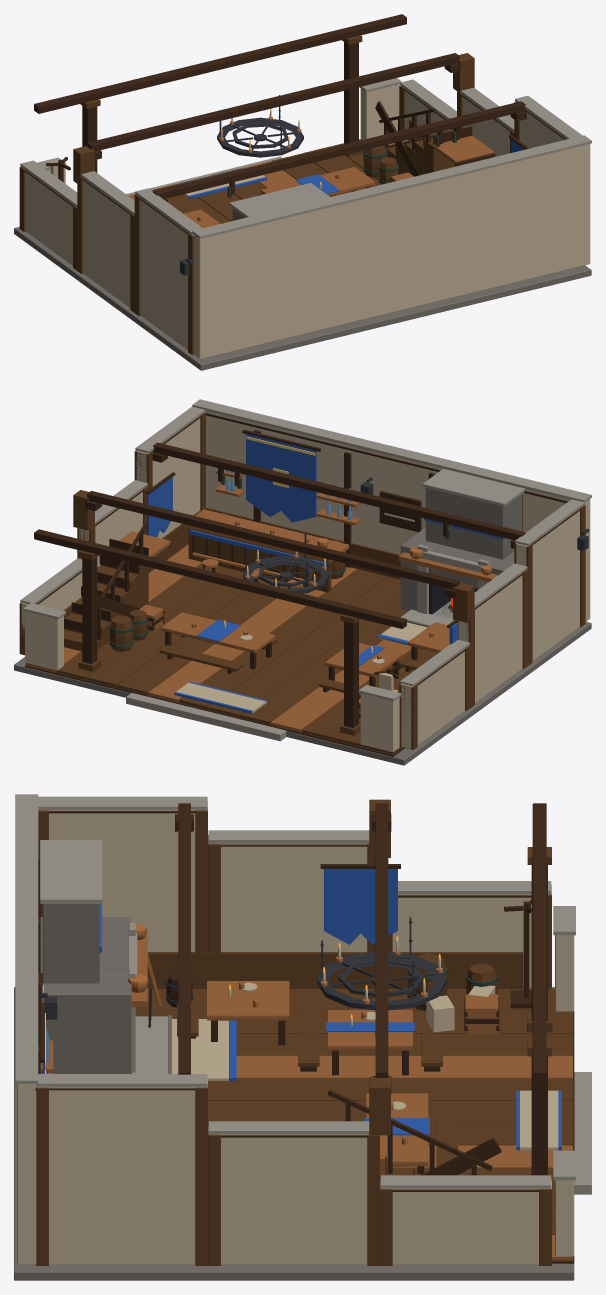
The model's file is 酒馆内部.glb.
3 renders of one model, top to bottom at view 1: azimuth 30°, elevation 25°; view 2: azimuth 150°, elevation 25°; view 3: azimuth 270°, elevation 25°, orthographic. The views are drawn at different scales.
Parts seen in each view (by area): view 1: TV-plaster, TV-wood_dark, TV-stone_light, TV-wood_mid, TV-stone_mid, TV-wood_warm, TV-iron, TV-team, TV-cloth_cream; view 2: TV-wood_mid, TV-plaster, TV-wood_dark, TV-stone_light, TV-wood_warm, TV-stone_mid, TV-team, TV-iron, TV-cloth_cream, TV-copper; view 3: TV-plaster, TV-wood_mid, TV-stone_light, TV-stone_mid, TV-wood_dark, TV-wood_warm, TV-team, TV-cloth_cream, TV-iron, TV-copper.
Part boxes in pixels (x1,y1,x2,y2): TV-plaster: (25, 84, 590, 359); TV-wood_dark: (24, 14, 566, 238); TV-stone_light: (20, 78, 591, 238); TV-wood_mid: (19, 35, 519, 354); TV-stone_mid: (14, 140, 591, 370); TV-wood_warm: (128, 135, 494, 227); TV-iron: (180, 95, 303, 275); TV-team: (175, 140, 524, 198); TV-cloth_cream: (50, 110, 321, 197); TV-wood_mid: (19, 412, 585, 754); TV-plaster: (21, 410, 590, 751); TV-wood_dark: (25, 413, 581, 756); TV-stone_light: (20, 399, 591, 741); TV-wood_warm: (25, 469, 497, 731); TV-stone_mid: (14, 487, 591, 765); TV-team: (147, 433, 503, 713); TV-iron: (243, 477, 589, 593); TV-cloth_cream: (176, 513, 427, 713); TV-copper: (192, 538, 492, 586); TV-plaster: (17, 802, 574, 1264); TV-wood_mid: (36, 799, 572, 1265); TV-stone_light: (15, 794, 591, 1194); TV-stone_mid: (14, 904, 574, 1280); TV-wood_dark: (35, 803, 574, 1263); TV-wood_warm: (40, 928, 572, 1260); TV-team: (42, 869, 561, 1150); TV-cloth_cream: (42, 904, 560, 1150); TV-iron: (40, 917, 446, 1027); TV-copper: (128, 924, 442, 1004).
Size of the model in its own units: 10.83 by 3.49 by 9.08.
